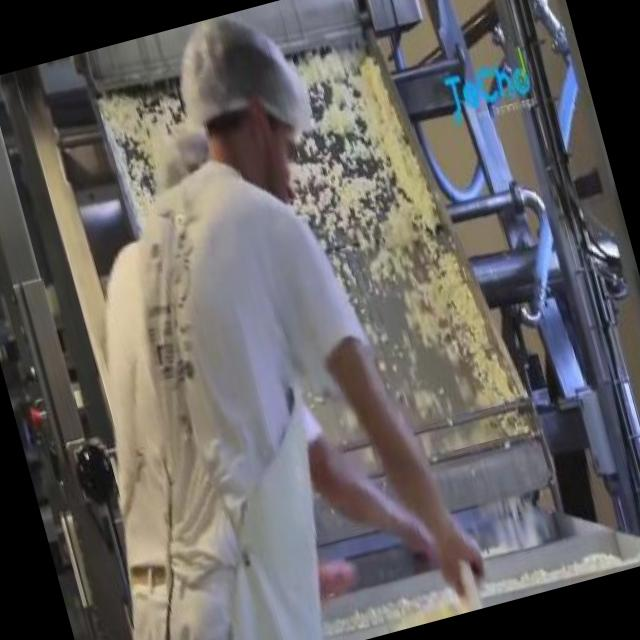hairnet: (165, 8, 312, 146)
